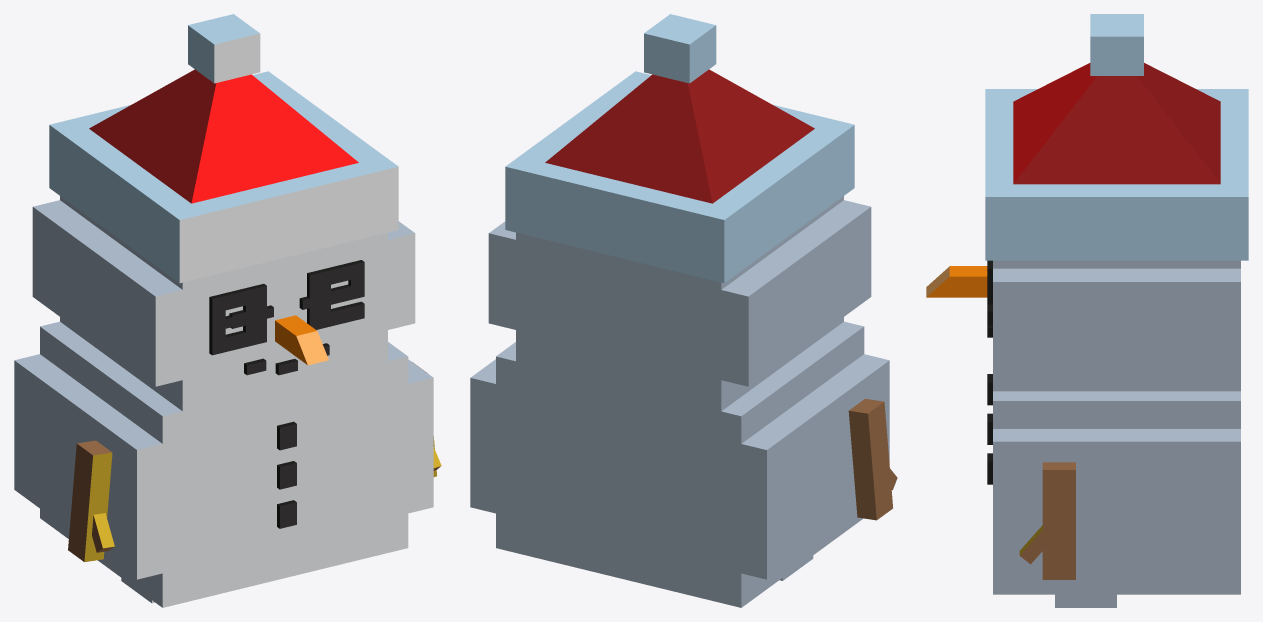
3 views of the same model, side by side, from view 1: azimuth 30°, elevation 25°; view 2: azimuth 150°, elevation 25°; view 3: azimuth 270°, elevation 25° (orthographic).
Parts seen in each view (by area): view 1: Ch_174_Head, Ch_174, Ch_174_Hand_L, Ch_174_Eye_03_L, Ch_174_Eye_03_R, Ch_174_Eye_02; view 2: Ch_174_Head, Ch_174, Ch_174_Hand_L; view 3: Ch_174_Head, Ch_174, Ch_174_Hand_R, Ch_174_Leg_R.
Boxes of the visible parts, x1,y1,x2,y2 form: Ch_174_Head: (32, 14, 415, 411); Ch_174: (14, 321, 433, 607); Ch_174_Hand_L: (68, 440, 114, 562); Ch_174_Eye_03_L: (209, 283, 266, 355); Ch_174_Eye_03_R: (307, 260, 364, 329); Ch_174_Eye_02: (225, 287, 355, 328); Ch_174_Head: (488, 14, 871, 411); Ch_174: (470, 321, 889, 607); Ch_174_Hand_L: (848, 398, 897, 520); Ch_174_Head: (926, 14, 1248, 391); Ch_174: (987, 374, 1240, 594); Ch_174_Hand_R: (1019, 462, 1075, 579); Ch_174_Leg_R: (1055, 594, 1116, 607).
Size of the model in its own units: 7.21 by 10.28 by 5.65.
